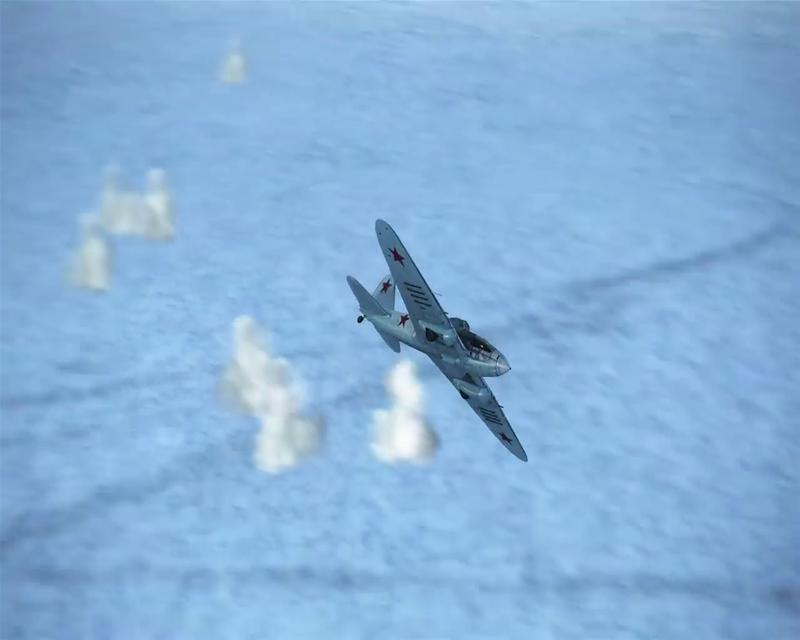UAV: (345, 217, 529, 462)
